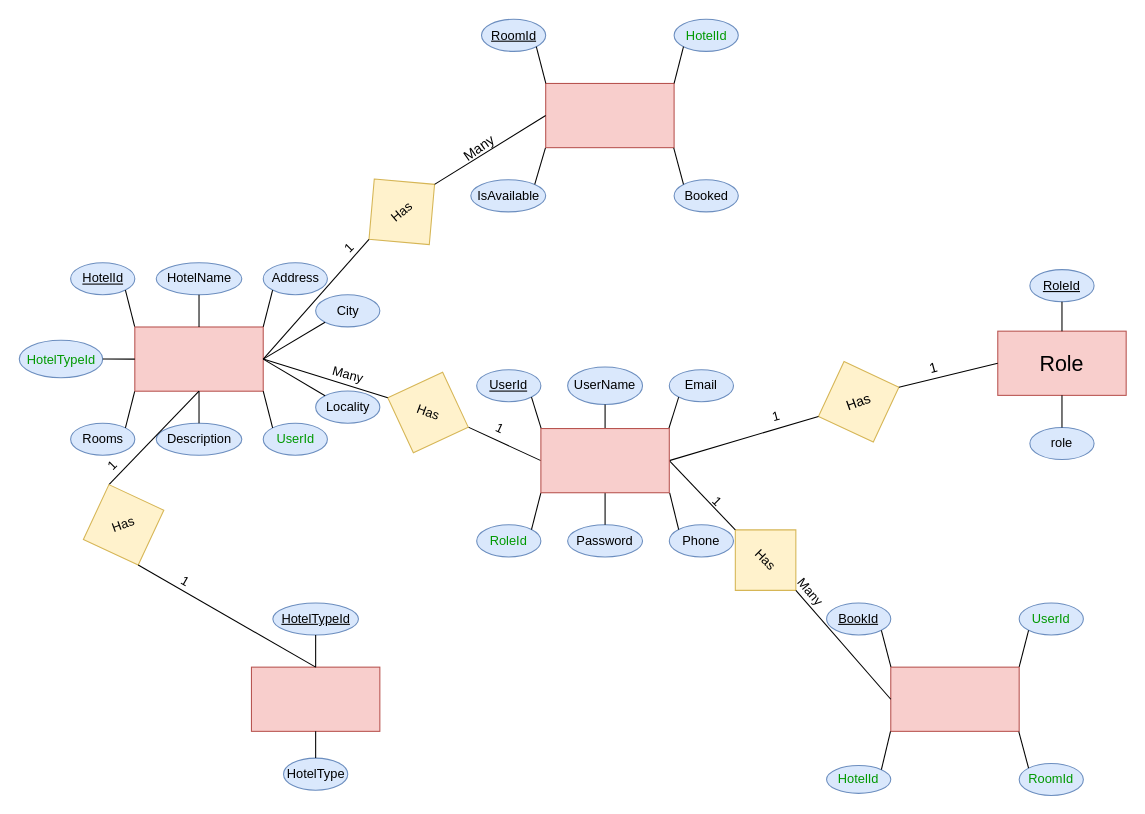
The diagram is 1145 pixels wide and 814 high, and some of its shapes have lost their labels. The shapes that lost their labels are listed below. From the top down, each one's centre as x and y in pixels, then its label:
At (x=609, y=115): "Room".
At (x=198, y=358): "Hotels".
At (x=604, y=460): "Users".
At (x=315, y=698): "Types".
At (x=954, y=698): "Book".
